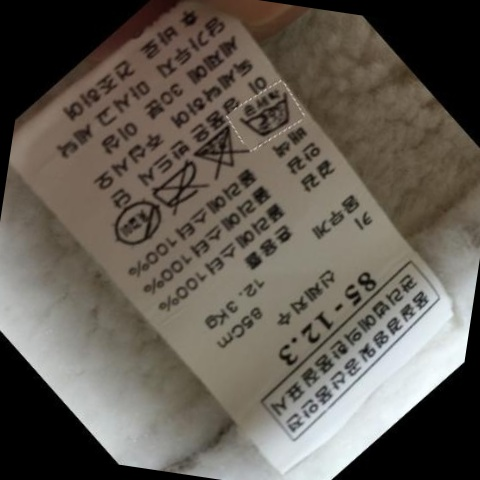DN_bleach: (193, 123, 254, 174)
DN_iron: (150, 158, 211, 217)
hand_wash: (234, 81, 304, 144)
line_dry_in_shade: (110, 197, 170, 249)
